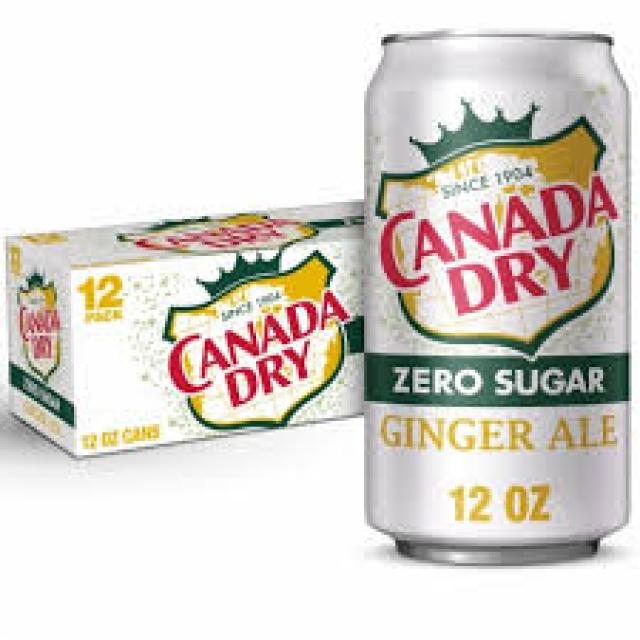Cans: (347, 17, 640, 569)
